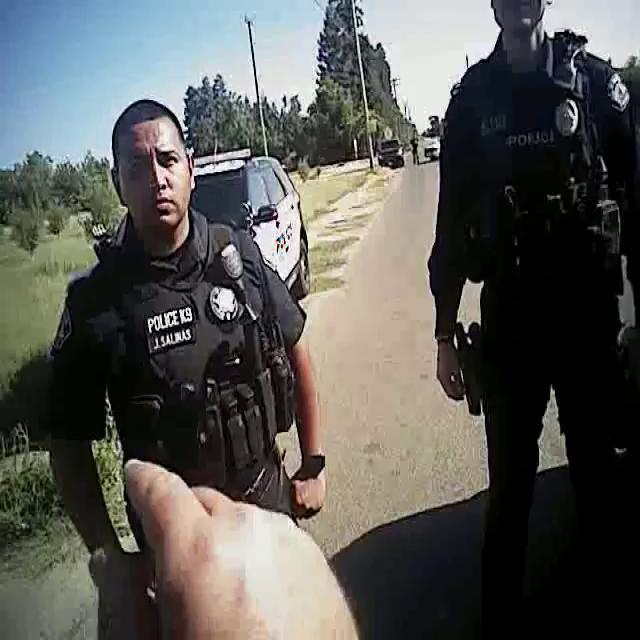gun: (445, 315, 493, 425)
